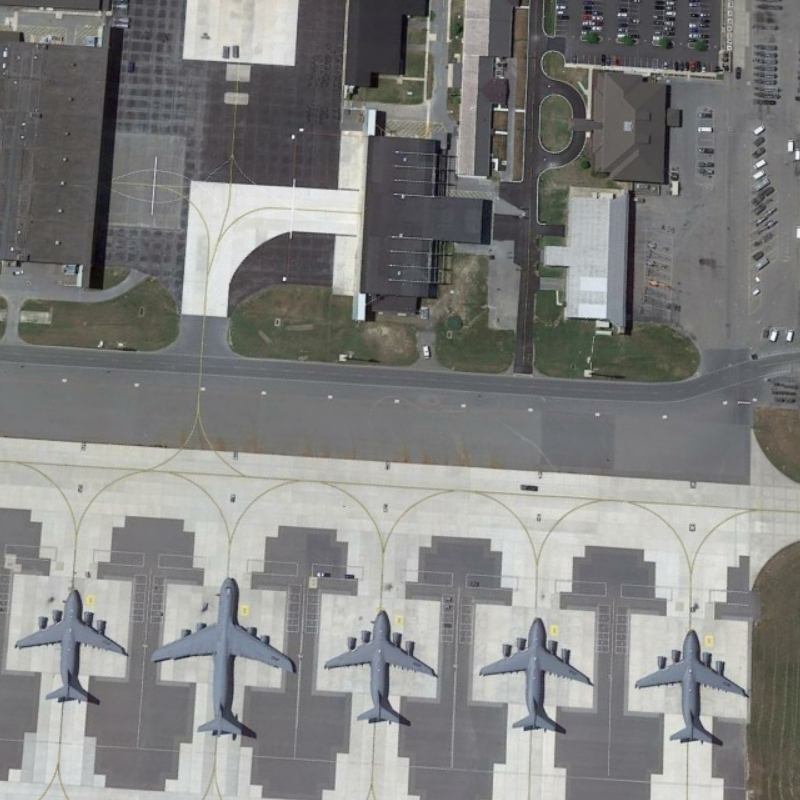A3: (10, 577, 135, 712), (630, 622, 754, 756), (474, 613, 600, 739), (322, 600, 443, 730)
A4: (143, 573, 300, 747)
